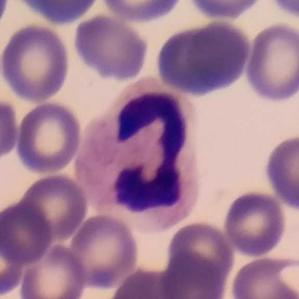Neutrophil: (73, 80, 210, 230)
RBC: (154, 19, 255, 98), (0, 22, 72, 103), (66, 212, 140, 289), (72, 13, 150, 82), (13, 100, 84, 174), (17, 172, 90, 241), (164, 219, 236, 286), (221, 189, 289, 258), (243, 21, 299, 104), (17, 242, 88, 299), (0, 198, 54, 266), (157, 253, 230, 299), (228, 253, 299, 299), (261, 131, 299, 213), (11, 0, 107, 27), (108, 266, 183, 299), (98, 0, 186, 24), (0, 225, 27, 298), (184, 0, 267, 21), (0, 95, 21, 164), (266, 0, 298, 22)
